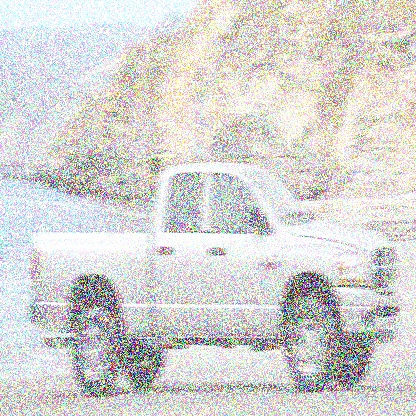Vehicle: (29, 160, 400, 393)
